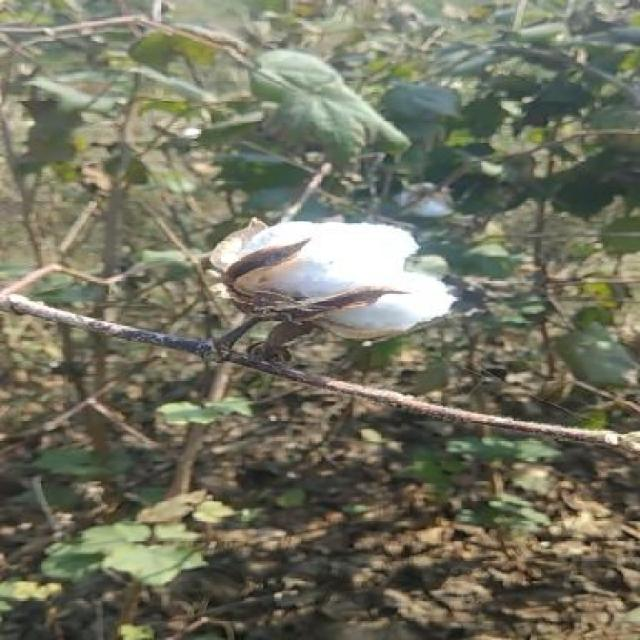cotton_ready: (188, 209, 466, 413)
